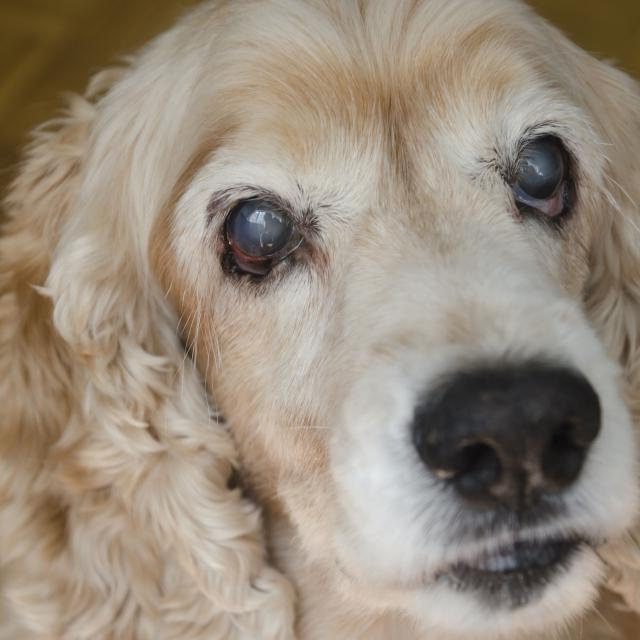eye: (216, 190, 315, 282), (497, 121, 576, 223)
